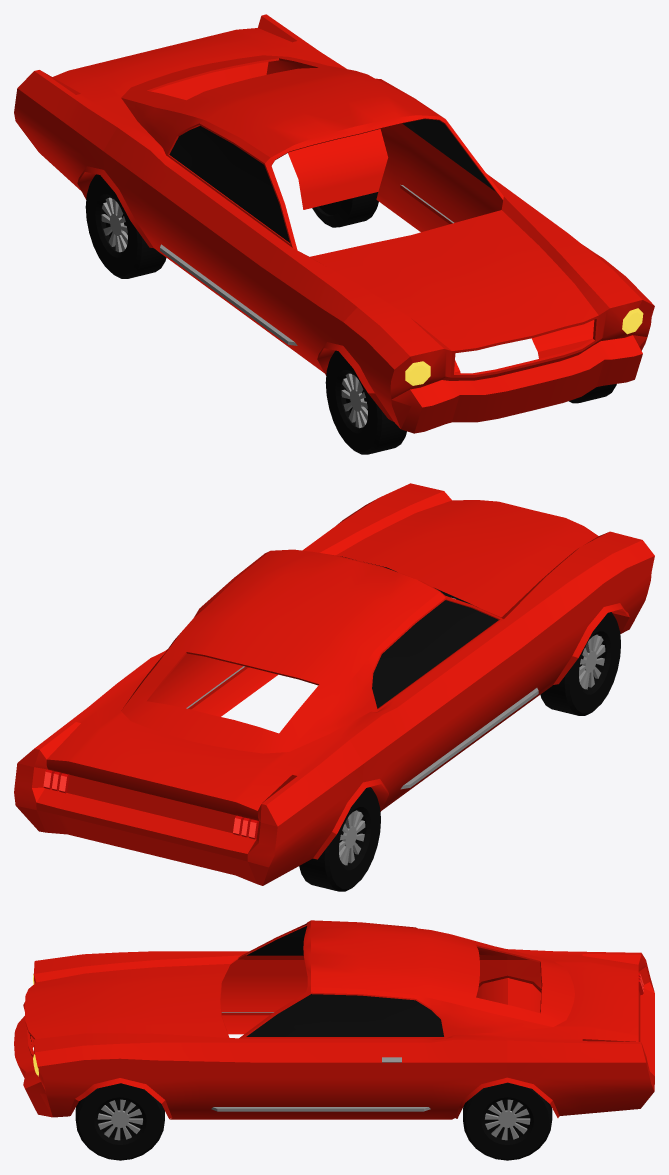
Rendered from red-mustang.gltf.
The picture shows the model from 3 angles, top to bottom: view 1: azimuth 30°, elevation 25°; view 2: azimuth 150°, elevation 25°; view 3: azimuth 270°, elevation 25°; orthographic projection. The views are drawn at different scales.
Parts seen in each view (by area): view 1: Circle, Circle.002, Circle.001; view 2: Circle, Circle.002, Circle.001, Circle.003; view 3: Circle, Circle.002, Circle.001.
Boxes of the visible parts, x1=… form: Circle: x1=14, y1=14, x2=654, y2=433; Circle.002: x1=85, y1=174, x2=378, y2=278; Circle.001: x1=325, y1=350, x2=616, y2=454; Circle: x1=14, y1=483, x2=654, y2=885; Circle.002: x1=299, y1=787, x2=380, y2=891; Circle.001: x1=540, y1=612, x2=620, y2=715; Circle.003: x1=43, y1=769, x2=258, y2=839; Circle: x1=14, y1=920, x2=654, y2=1119; Circle.002: x1=463, y1=1082, x2=552, y2=1160; Circle.001: x1=75, y1=1083, x2=164, y2=1160.
Size of the model in its own units: 1.32 by 0.9783 by 3.37.
